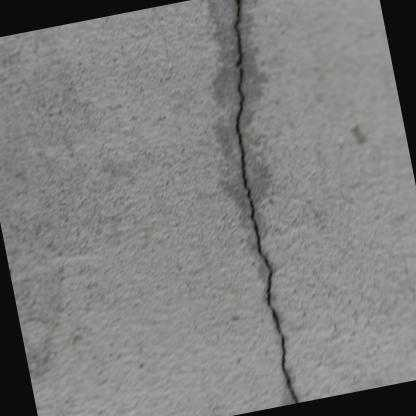crack: (233, 0, 297, 403)
